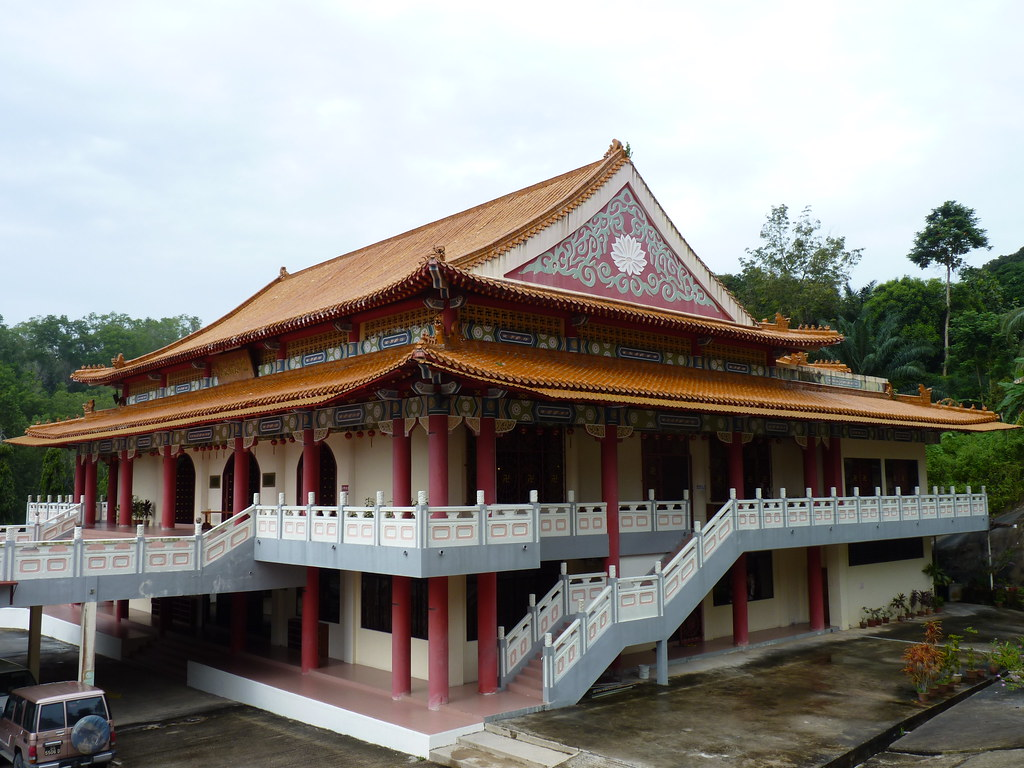Buddhist Temple: (106, 134, 901, 655)
